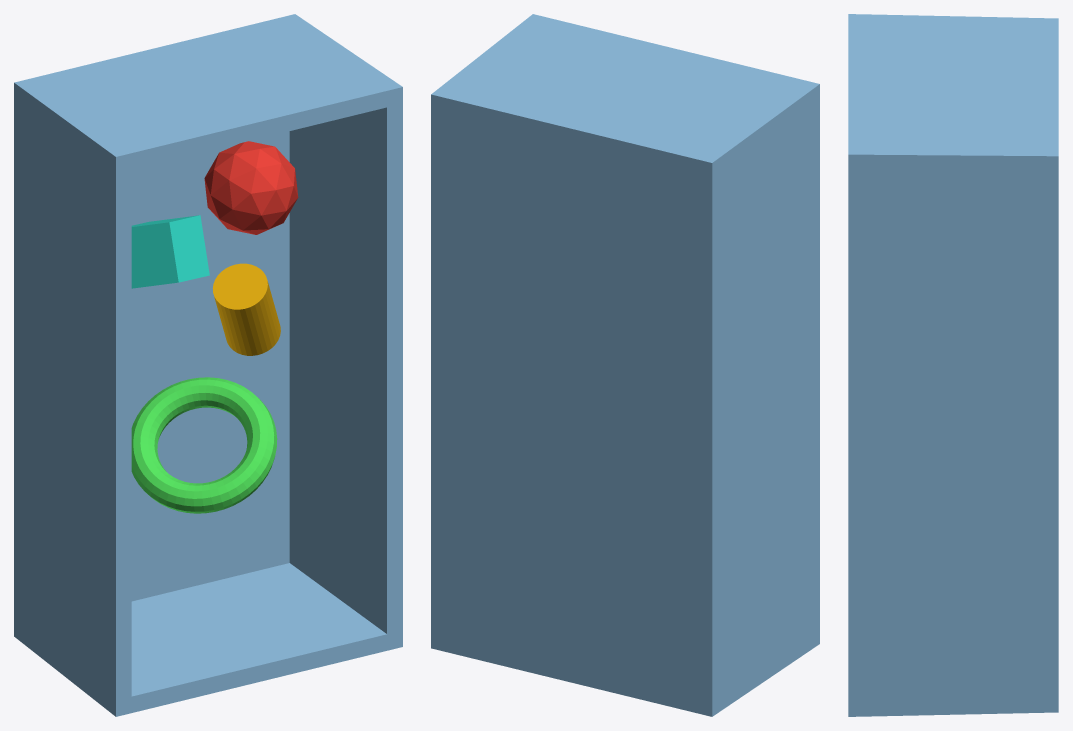
File: room.glb
3 views of the same model, side by side, from view 1: azimuth 30°, elevation 25°; view 2: azimuth 150°, elevation 25°; view 3: azimuth 270°, elevation 25° (orthographic).
Visible parts, largest first — view 1: Plane, Torus, Icosphere, Cube, Cylinder; view 2: Plane; view 3: Plane.
Boxes of the visible parts, x1,y1,x2,y2 form: Plane: [14, 14, 402, 716]; Torus: [131, 377, 277, 513]; Icosphere: [204, 141, 298, 234]; Cube: [131, 215, 209, 288]; Cylinder: [212, 263, 280, 355]; Plane: [431, 14, 819, 716]; Plane: [848, 14, 1058, 716].
Bounding box in the file's own units: 1.14 × 2.13 × 0.7214.
